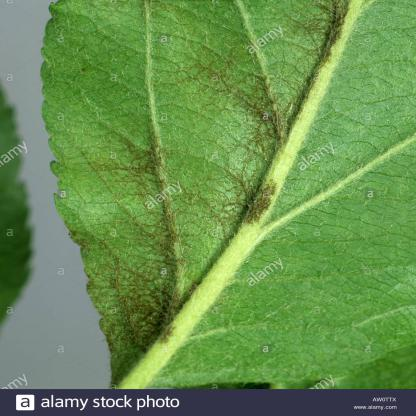apple scab leaf: (62, 4, 413, 388)
